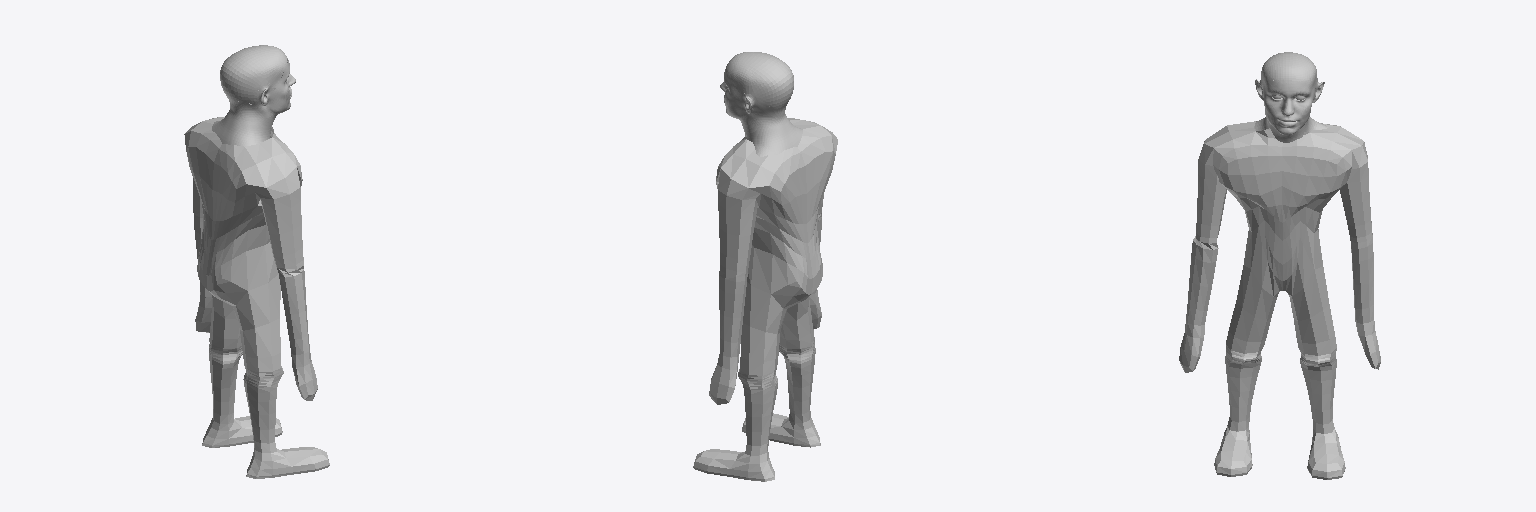
Rendered from PersonaDefin.obj.
3 renders of one model, left to right at view 1: azimuth 30°, elevation 25°; view 2: azimuth 150°, elevation 25°; view 3: azimuth 270°, elevation 25°, orthographic.
Parts seen in each view (by area): view 1: Cube, FBHead_FBHead_mesh; view 2: Cube, FBHead_FBHead_mesh; view 3: Cube, FBHead_FBHead_mesh.
Boxes of the visible parts, x1,y1,x2,y2 form: Cube: [184, 117, 329, 478]; FBHead_FBHead_mesh: [212, 45, 295, 146]; Cube: [693, 118, 837, 481]; FBHead_FBHead_mesh: [720, 52, 802, 156]; Cube: [1179, 121, 1380, 479]; FBHead_FBHead_mesh: [1254, 52, 1327, 142].
Size of the model in its own units: 10.55 by 41.93 by 19.06.